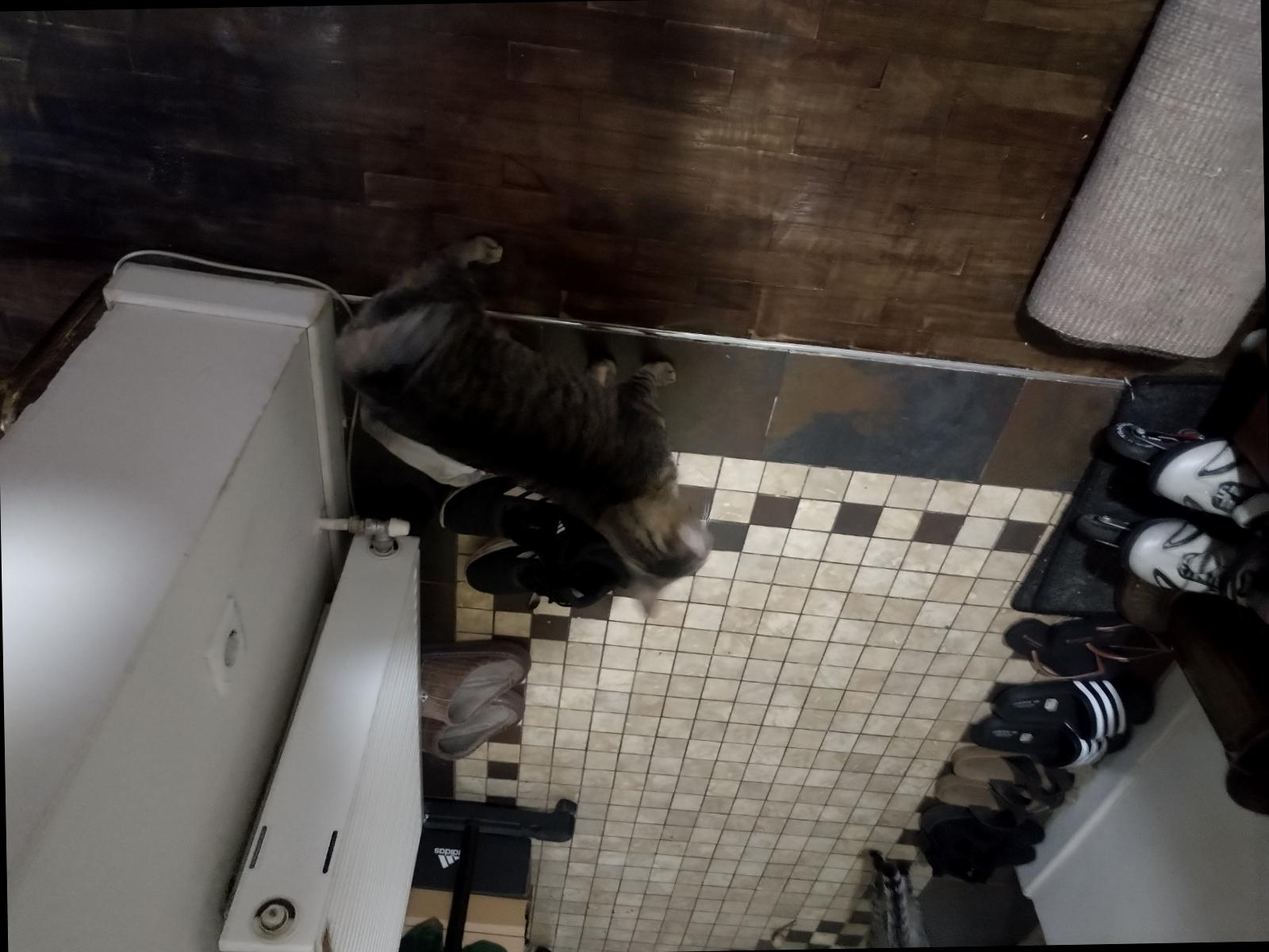macka: (323, 222, 719, 630)
